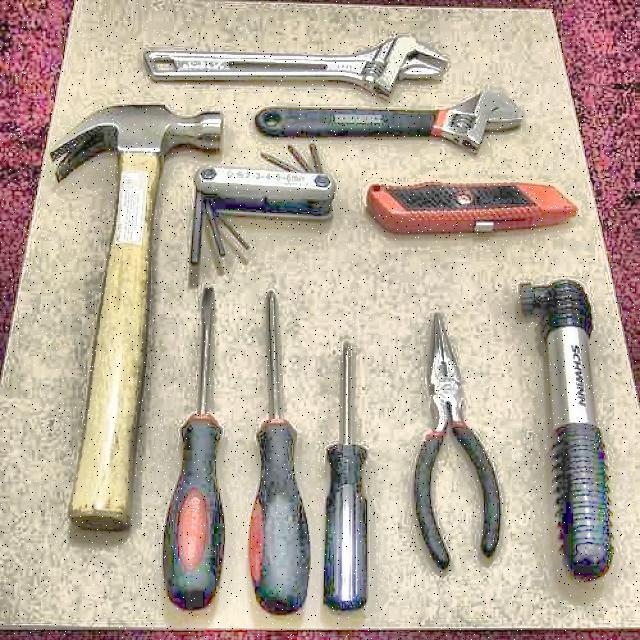hammer: (47, 103, 231, 538)
